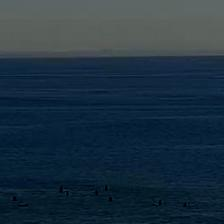surfer: (17, 203, 28, 207), (12, 196, 18, 202), (158, 200, 163, 205), (95, 190, 99, 195), (104, 186, 108, 191), (109, 196, 113, 201), (66, 191, 70, 196), (59, 187, 63, 192), (183, 202, 187, 206)
